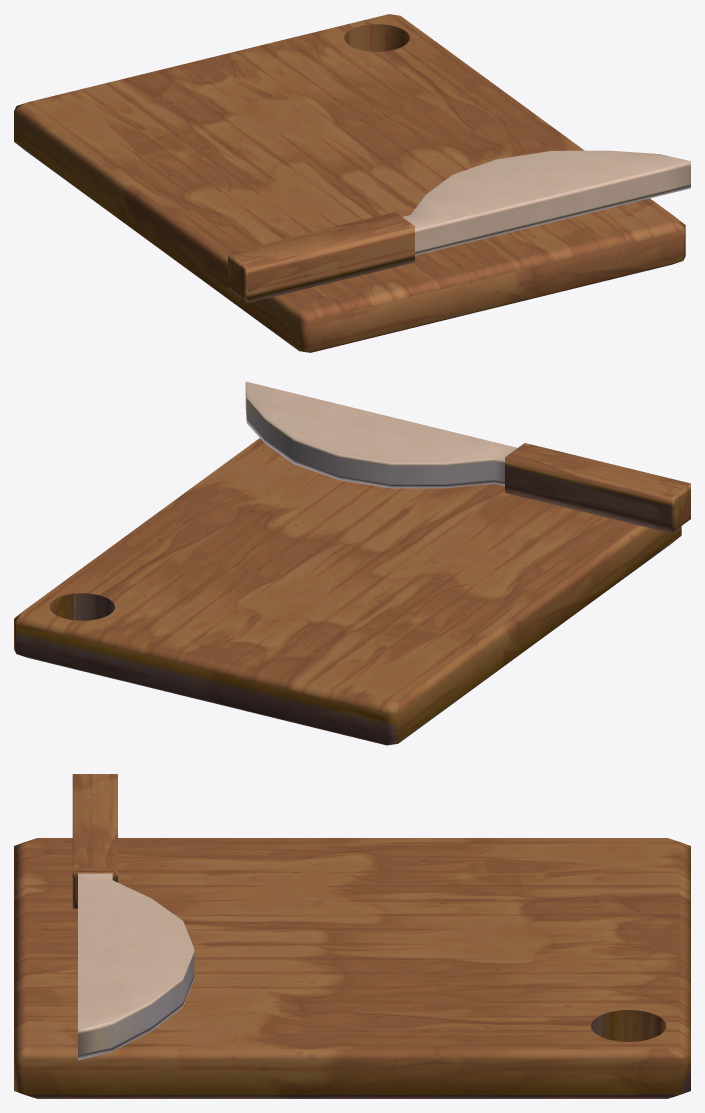
File: Chopping.fbx
The picture shows the model from 3 angles, top to bottom: view 1: azimuth 30°, elevation 25°; view 2: azimuth 150°, elevation 25°; view 3: azimuth 270°, elevation 25°; orthographic projection. The views are drawn at different scales.
Parts seen in each view (by area): view 1: ChoppingBoard, Knife; view 2: ChoppingBoard, Knife; view 3: ChoppingBoard, Knife.
Boxes of the visible parts, x1,y1,x2,y2 form: ChoppingBoard: (14, 14, 685, 352); Knife: (228, 150, 690, 302); ChoppingBoard: (14, 438, 681, 745); Knife: (245, 381, 690, 533); ChoppingBoard: (14, 838, 690, 1098); Knife: (72, 774, 194, 1060).
Size of the model in its own units: 146 by 25.45 by 166.
1 material, 1 textured.
